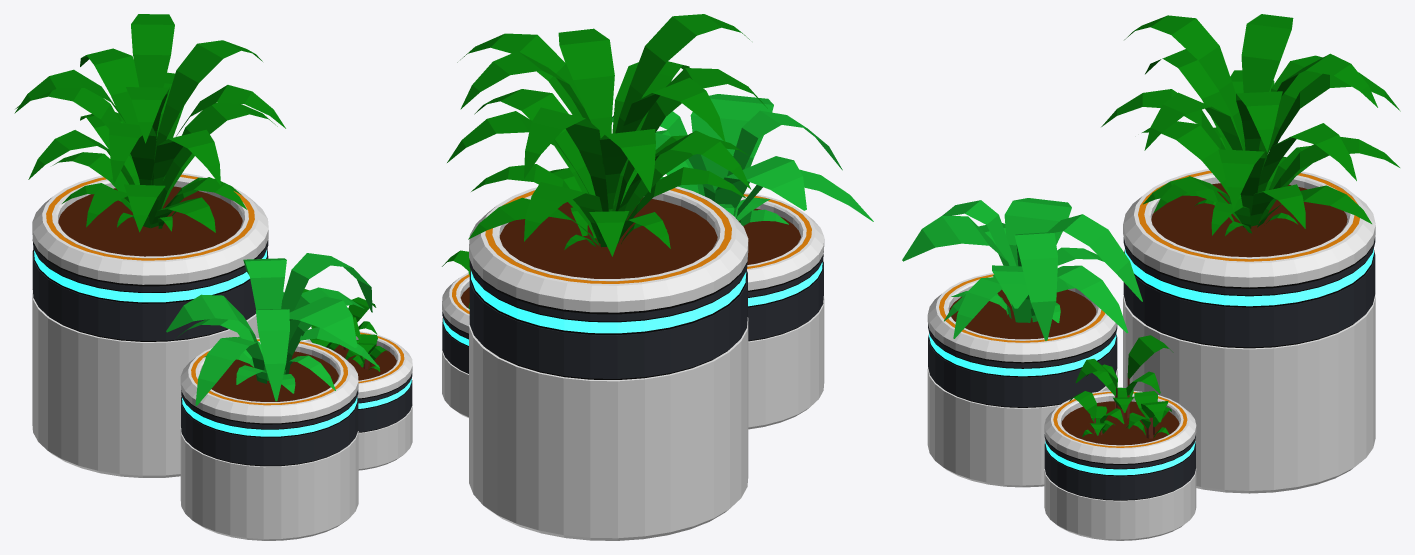
File: SM_Triple_Round_Planter_Set.fbx
3 renders of one model, left to right at view 1: azimuth 30°, elevation 25°; view 2: azimuth 150°, elevation 25°; view 3: azimuth 270°, elevation 25°, orthographic. The views are drawn at different scales.
Visible parts, largest first — view 1: SM_Triple_Round_Planter_Set; view 2: SM_Triple_Round_Planter_Set; view 3: SM_Triple_Round_Planter_Set.
Part boxes in pixels (x1,y1,x2,y2): SM_Triple_Round_Planter_Set: [14, 14, 412, 540]; SM_Triple_Round_Planter_Set: [442, 14, 873, 540]; SM_Triple_Round_Planter_Set: [902, 14, 1400, 540].
Size of the model in its own units: 61.31 by 69.78 by 79.24.
